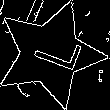L_W: (20, 31, 80, 78)
